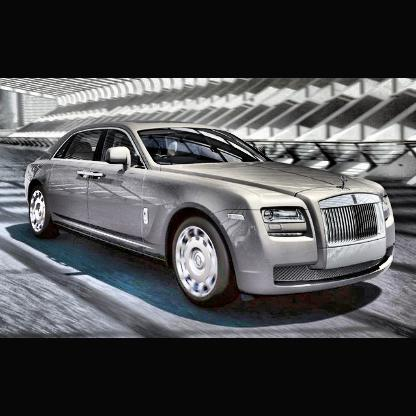Rolls-Royce Ghost Sedan 2012: (25, 121, 398, 305)
